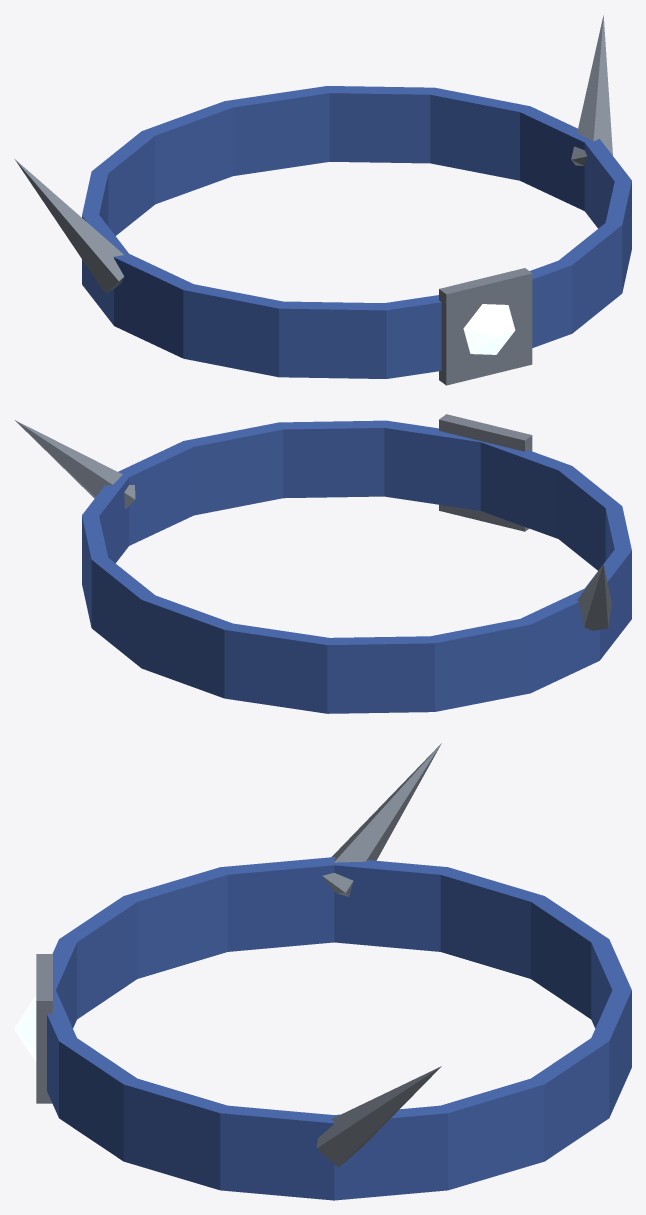
The model's file is armor_lord_head_rare_human.glb.
3 views of the same model, one above another, from view 1: azimuth 30°, elevation 25°; view 2: azimuth 150°, elevation 25°; view 3: azimuth 270°, elevation 25° (orthographic). The views are drawn at different scales.
Visible parts, largest first — view 1: armor_lord_head_rare_human__head; view 2: armor_lord_head_rare_human__head; view 3: armor_lord_head_rare_human__head.
Part boxes in pixels (box(x1,y1,x2,y2)): armor_lord_head_rare_human__head: box(14, 15, 631, 385); armor_lord_head_rare_human__head: box(15, 414, 631, 713); armor_lord_head_rare_human__head: box(14, 743, 631, 1200).
Bounding box in the file's own units: 54.8 × 13.9 × 44.26.
